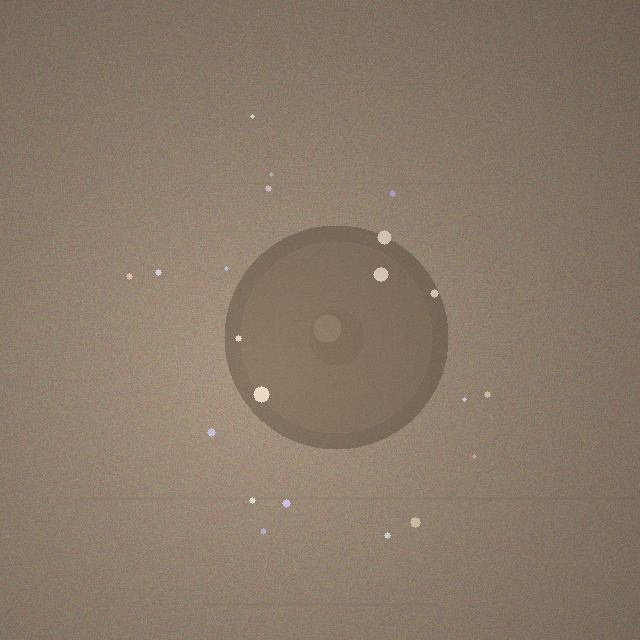overburn: (224, 225, 448, 449)
